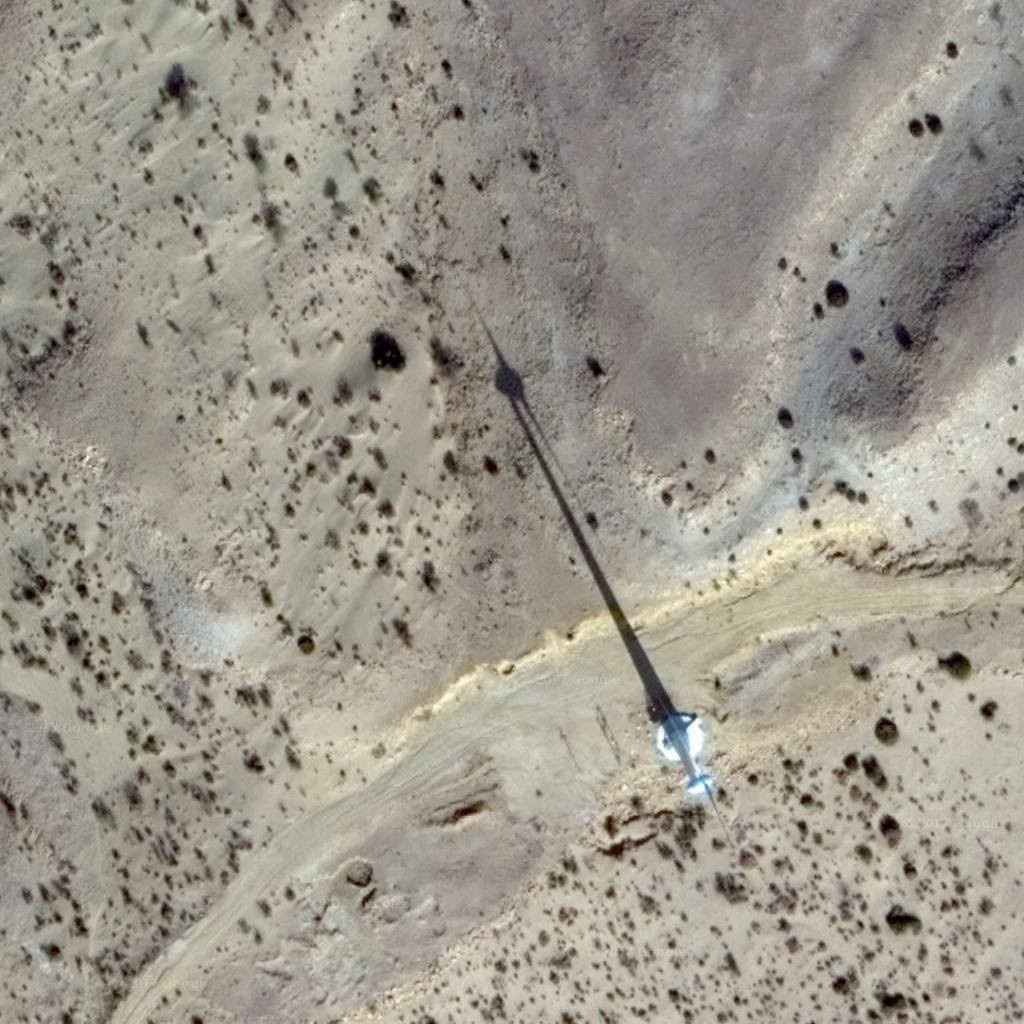Windmill: (454, 273, 694, 720)
